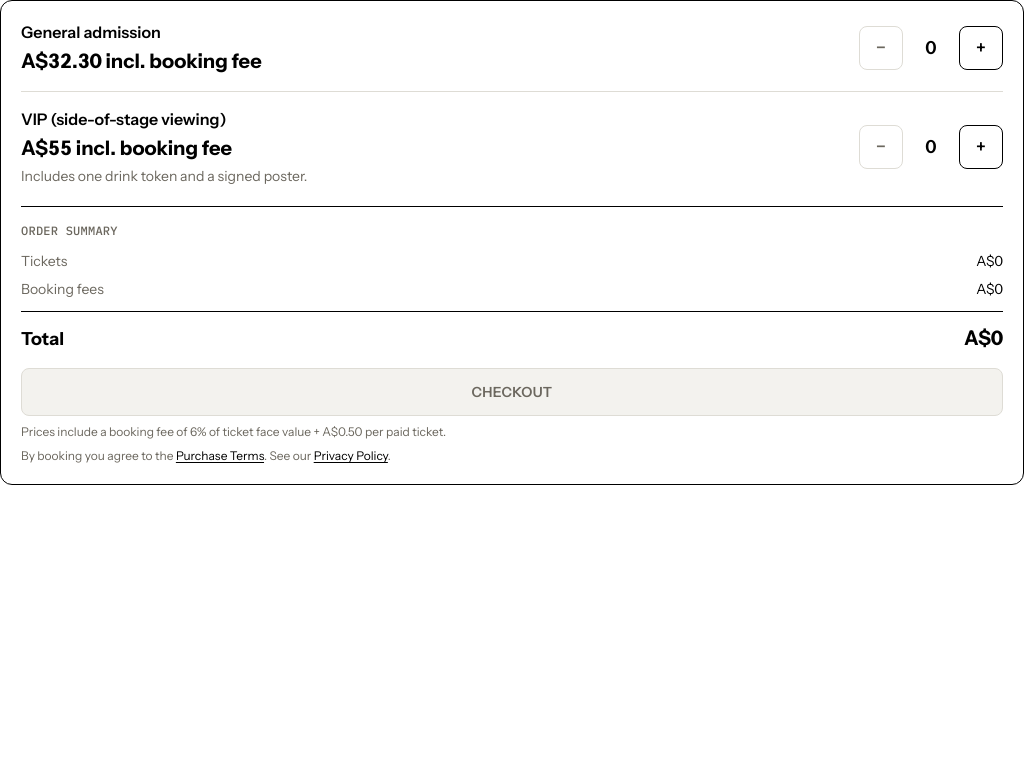
Support Sheltüh in the ticket selector (general admission) › is hidden until a paid ticket is chosen, then offers A$2, A$5, A$10 and Other right above Checkout, none selected
Expected: the element "Support Sheltüh (optional)" is not shown
Step 1. Click the button named "Increase quantity for General admission" → (981, 48), box [959, 26, 1003, 70]
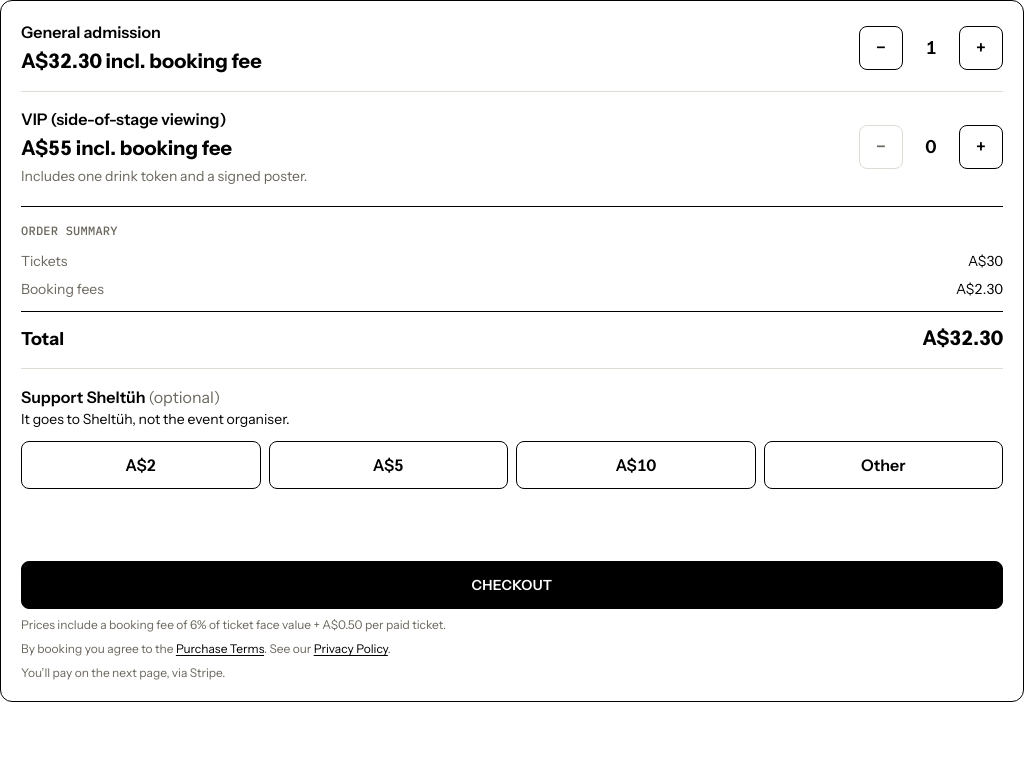
Expected: the text "It goes to Sheltüh, not the event organiser." is shown, [21, 410, 290, 428]
Expected: the element showing "Support Sheltüh (optional)" is shown, [21, 385, 220, 409]
